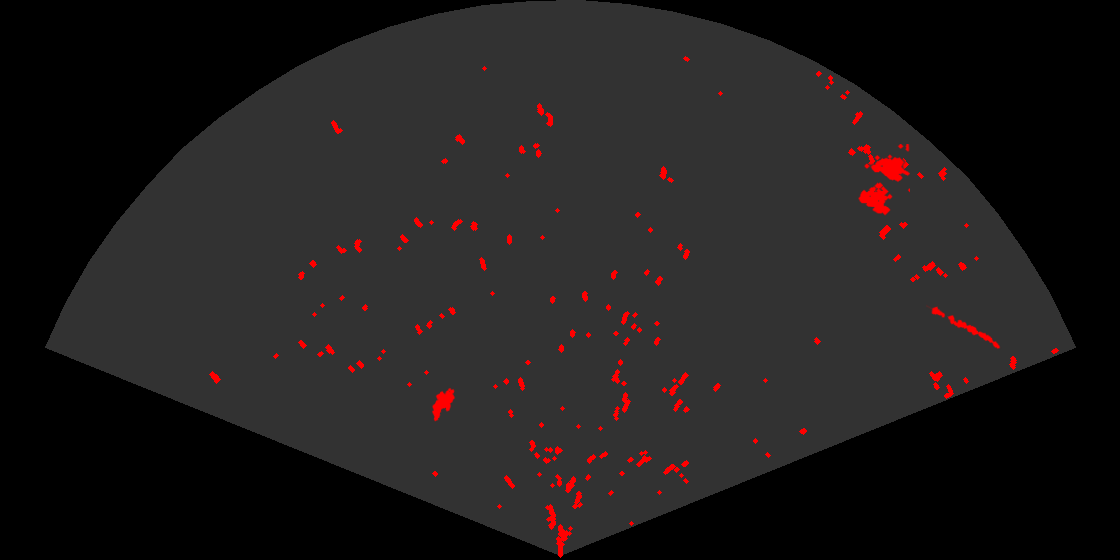AUV: (430, 386, 457, 423)
cage: (857, 144, 910, 217)
chain: (926, 303, 1002, 350)
